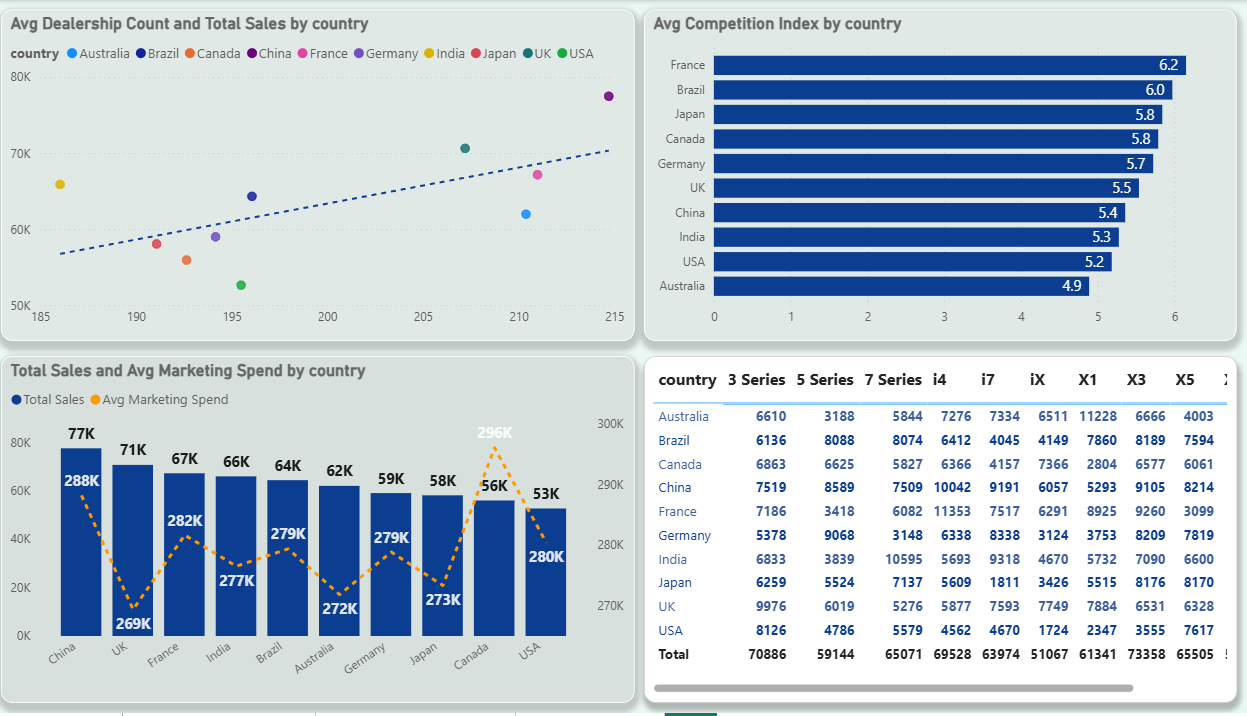

Layout of this report page (visuals, bound fields, positions):
{"tool":"powerbi","page":{"name":"Sales Drivers","canvas":[1280,720],"ordinal":2},"visuals":[{"type":"scatterChart","fields":{"X":["bmw_analytics bmw_sales.Avg Dealership Count"],"Y":["bmw_analytics bmw_sales.Total Sales"],"Series":["bmw_analytics bmw_sales.country"]},"box":[19.1,9.6,639.7,334.9],"z":0},{"type":"lineStackedColumnComboChart","fields":{"Category":["bmw_analytics bmw_sales.country"],"Y":["bmw_analytics bmw_sales.Total Sales"],"Y2":["bmw_analytics bmw_sales.Avg Marketing Spend"]},"box":[19.1,359.5,639.7,349.9],"z":1000},{"type":"clusteredBarChart","fields":{"Category":["bmw_analytics bmw_sales.country"],"Y":["bmw_analytics bmw_sales.Avg Competition Index"]},"box":[668.4,9.6,598.7,334.9],"z":2000},{"type":"pivotTable","fields":{"Rows":["bmw_analytics bmw_sales.country"],"Columns":["bmw_analytics bmw_sales.model"],"Values":["bmw_analytics bmw_sales.Total Sales"]},"box":[668,359,599,350],"z":3000}]}

Visuals, with their boxes in screenshot pixels (x1, y1, x2, y2), scaled from the page's 1280x720 canvas onto the 1247x716 screenshot:
scatterChart - bmw_analytics bmw_sales.Avg Dealership Count x bmw_analytics bmw_sales.Total Sales: select_region(19, 10, 642, 343)
lineStackedColumnComboChart - bmw_analytics bmw_sales.country x bmw_analytics bmw_sales.Total Sales: select_region(19, 358, 642, 705)
clusteredBarChart - bmw_analytics bmw_sales.country x bmw_analytics bmw_sales.Avg Competition Index: select_region(651, 10, 1234, 343)
pivotTable - bmw_analytics bmw_sales.country x bmw_analytics bmw_sales.model: select_region(651, 357, 1234, 705)
